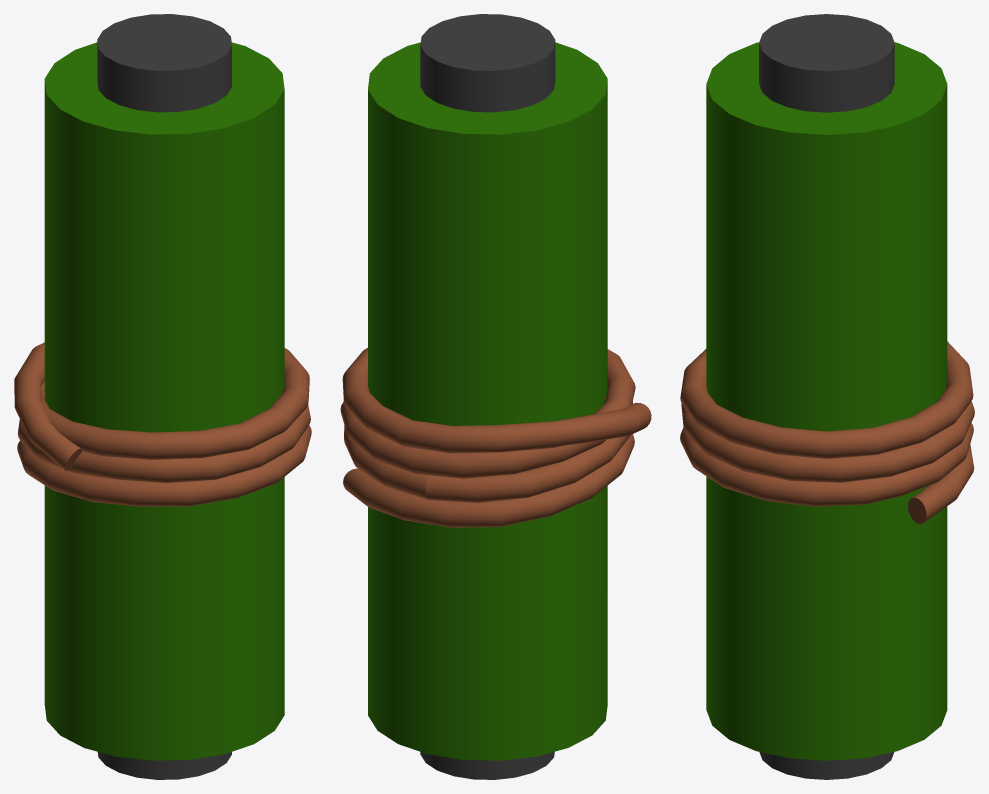
Rendered from makimono.fbx.
The picture shows the model from 3 angles, left to right: view 1: azimuth 30°, elevation 25°; view 2: azimuth 150°, elevation 25°; view 3: azimuth 270°, elevation 25°; orthographic projection.
Visible parts, largest first — view 1: makimono2, makimono3; view 2: makimono2, makimono3; view 3: makimono2, makimono3.
Part boxes in pixels (left/top/right/bottom): makimono2: left=44, top=14, right=284, bottom=779; makimono3: left=14, top=342, right=311, bottom=506; makimono2: left=368, top=14, right=607, bottom=779; makimono3: left=340, top=348, right=651, bottom=527; makimono2: left=706, top=14, right=947, bottom=779; makimono3: left=680, top=341, right=974, bottom=523.
Bounding box in the file's own units: 8.72 × 21.94 × 8.27.
